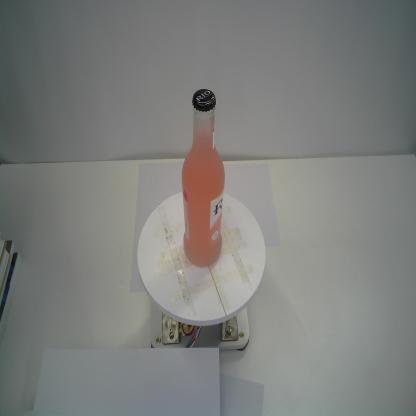Alcohol: (180, 86, 227, 271)
